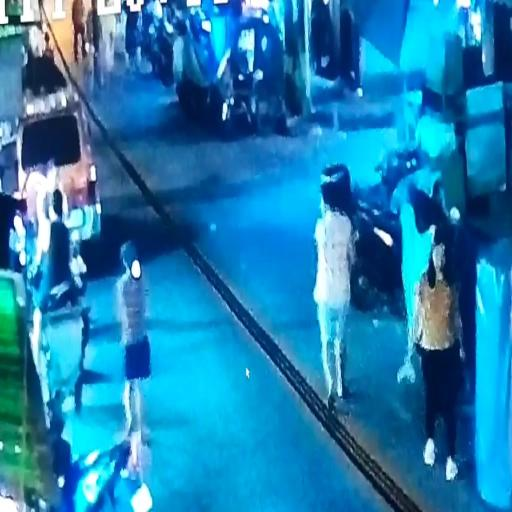Car: (22, 89, 108, 263)
Motor: (312, 138, 424, 300), (174, 3, 265, 133)
